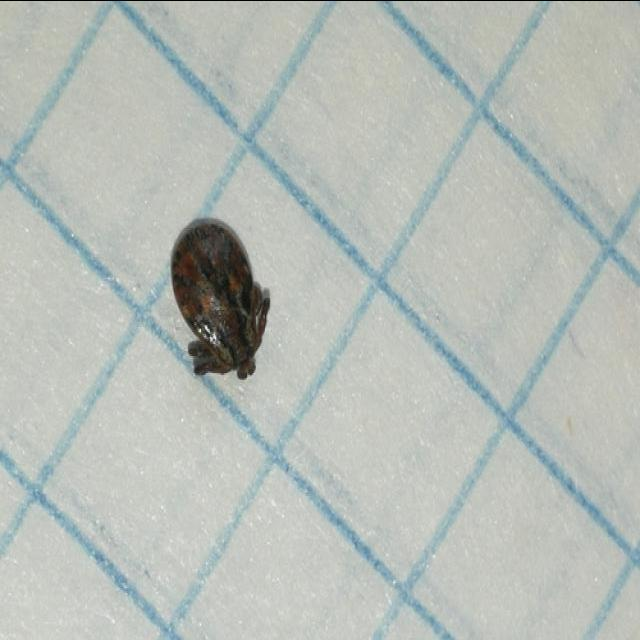Dermacentor Reticulatus-M: (169, 217, 269, 379)
